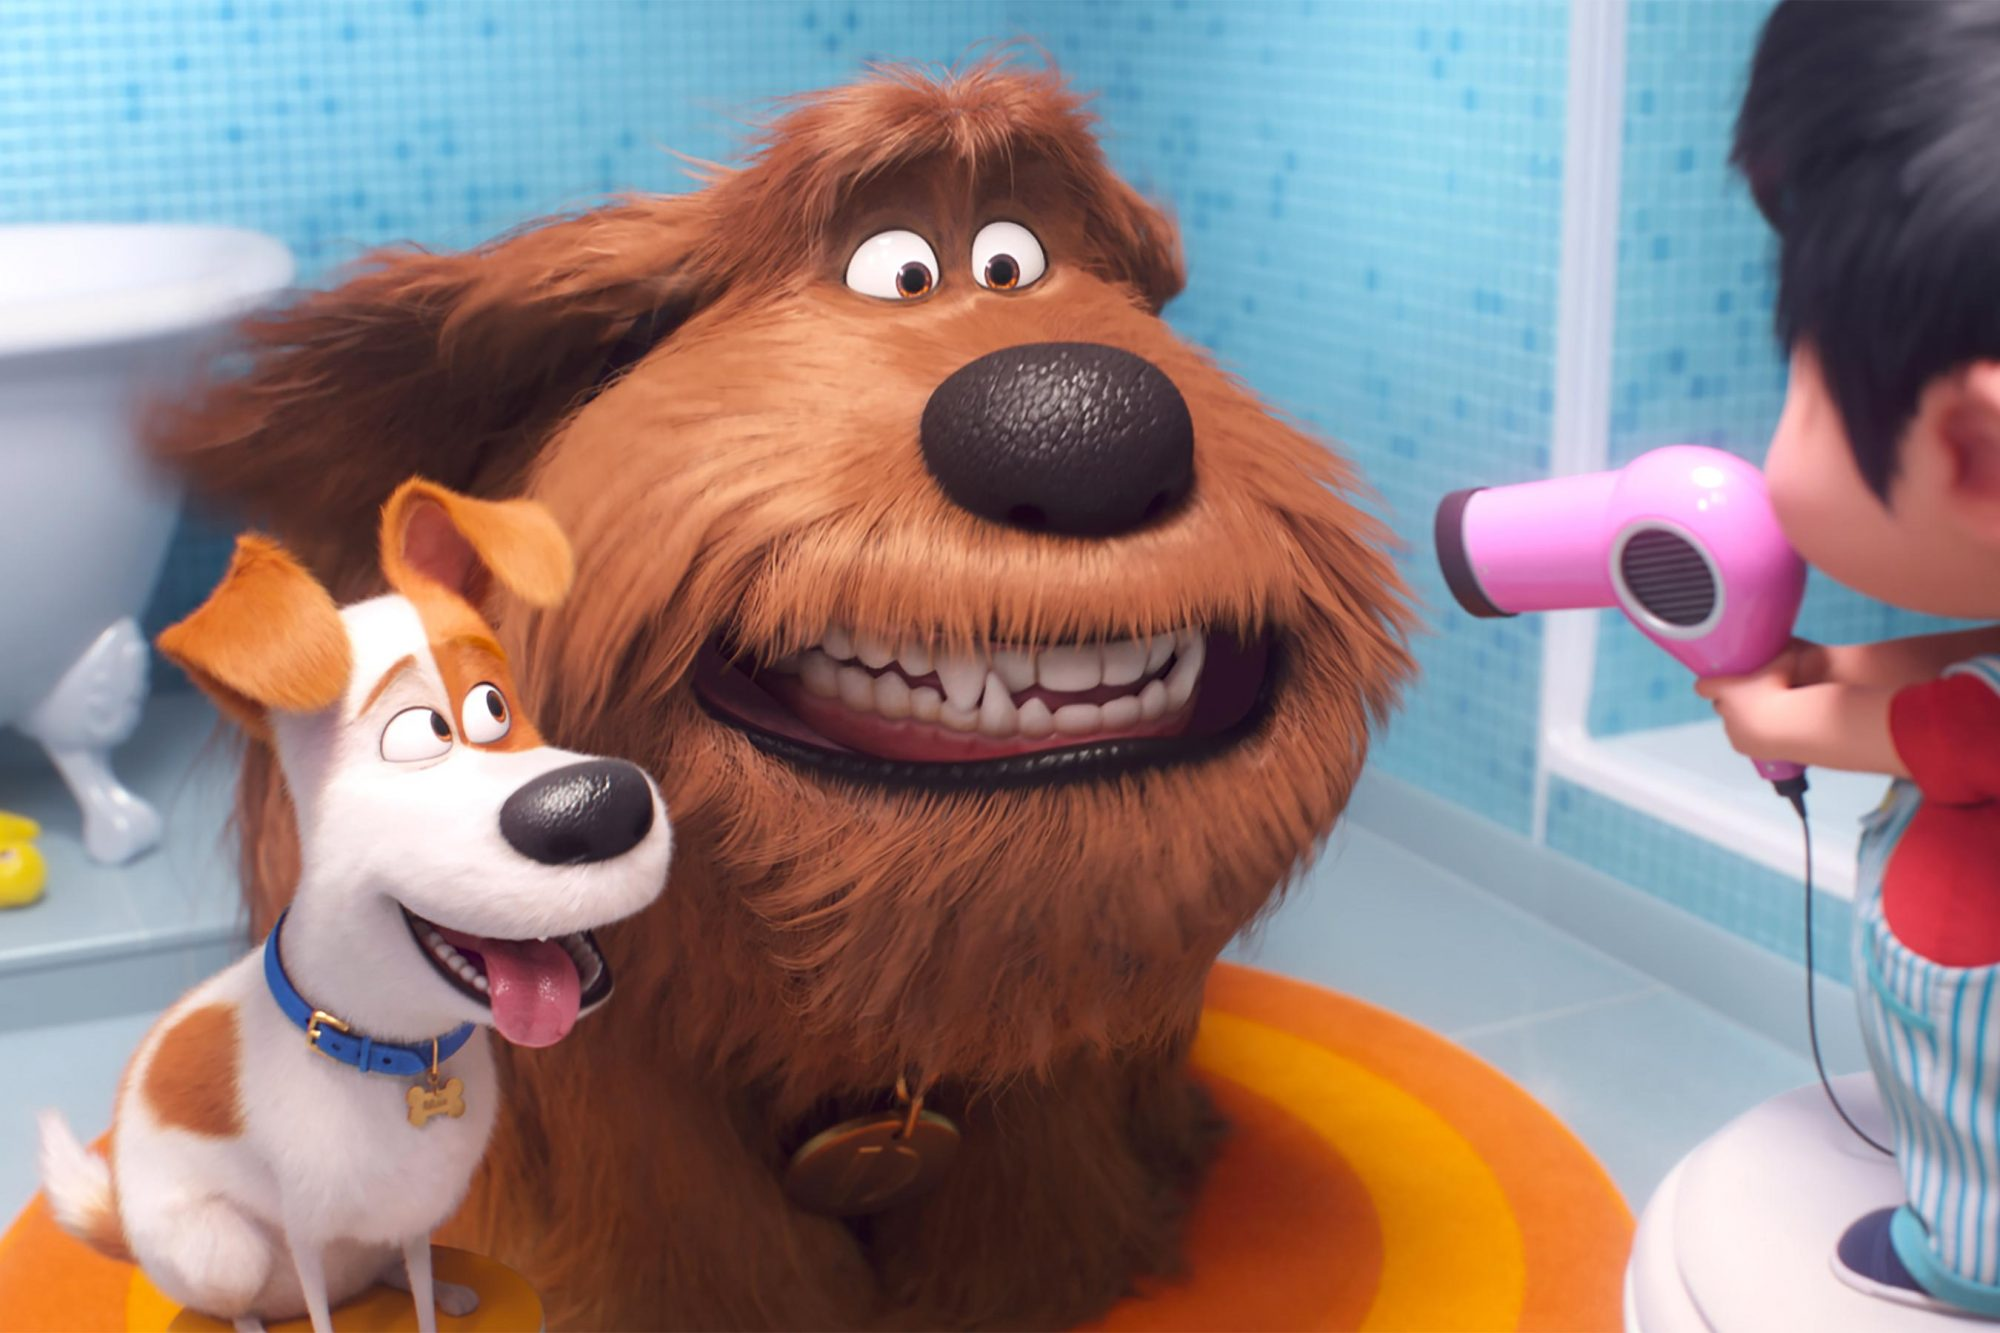pet: (94, 533, 567, 1333)
